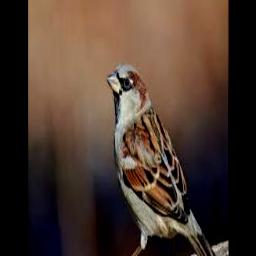Sparrow: (107, 63, 215, 256)
